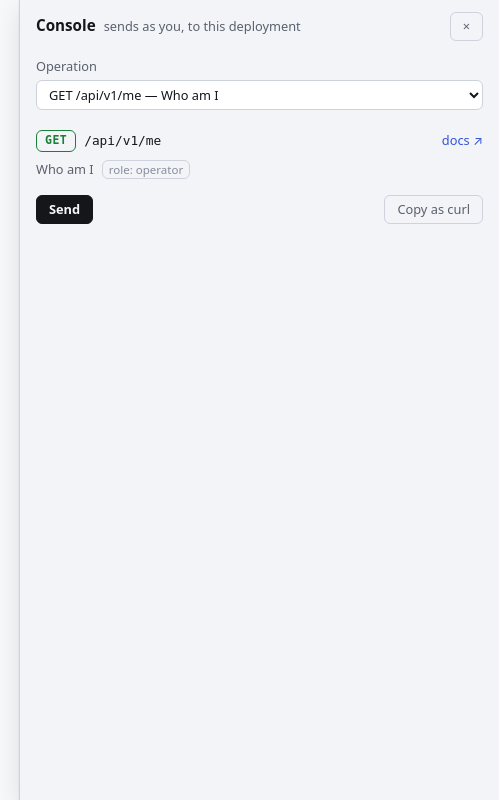
the API console (docs/49 D5, revised 2026-09-21) › sends a GET through the session with a relative api/v1 path, on one click
The image size is (499, 800).
Step 1. Select "GET /api/v1/me — Who am I" in the dropdown labelled "Operation" → x=260, y=95, box [36, 80, 483, 110]
Step 2. Click the button "Send" → x=65, y=210, box [36, 195, 93, 224]
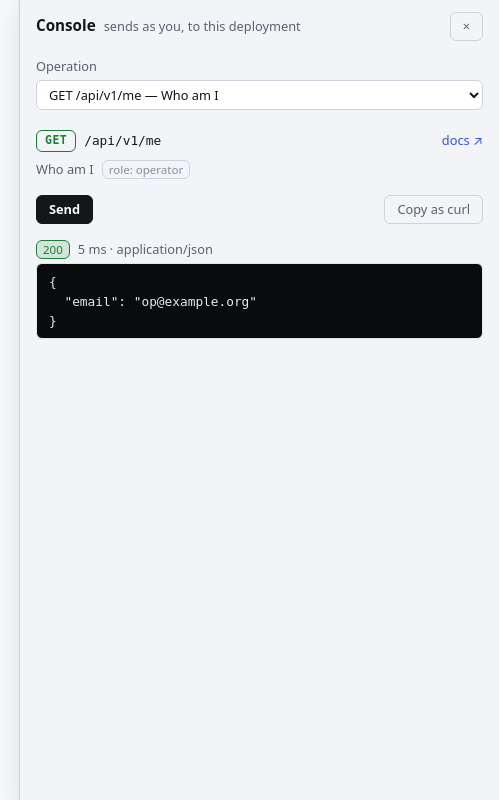
Expected: the icon "GET" is shown, [36, 130, 76, 152]
Expected: the text "200" is shown, [36, 240, 70, 259]
Expected: the text "{ \"email\": \"op@example.org\" }" is shown, [36, 263, 483, 339]
